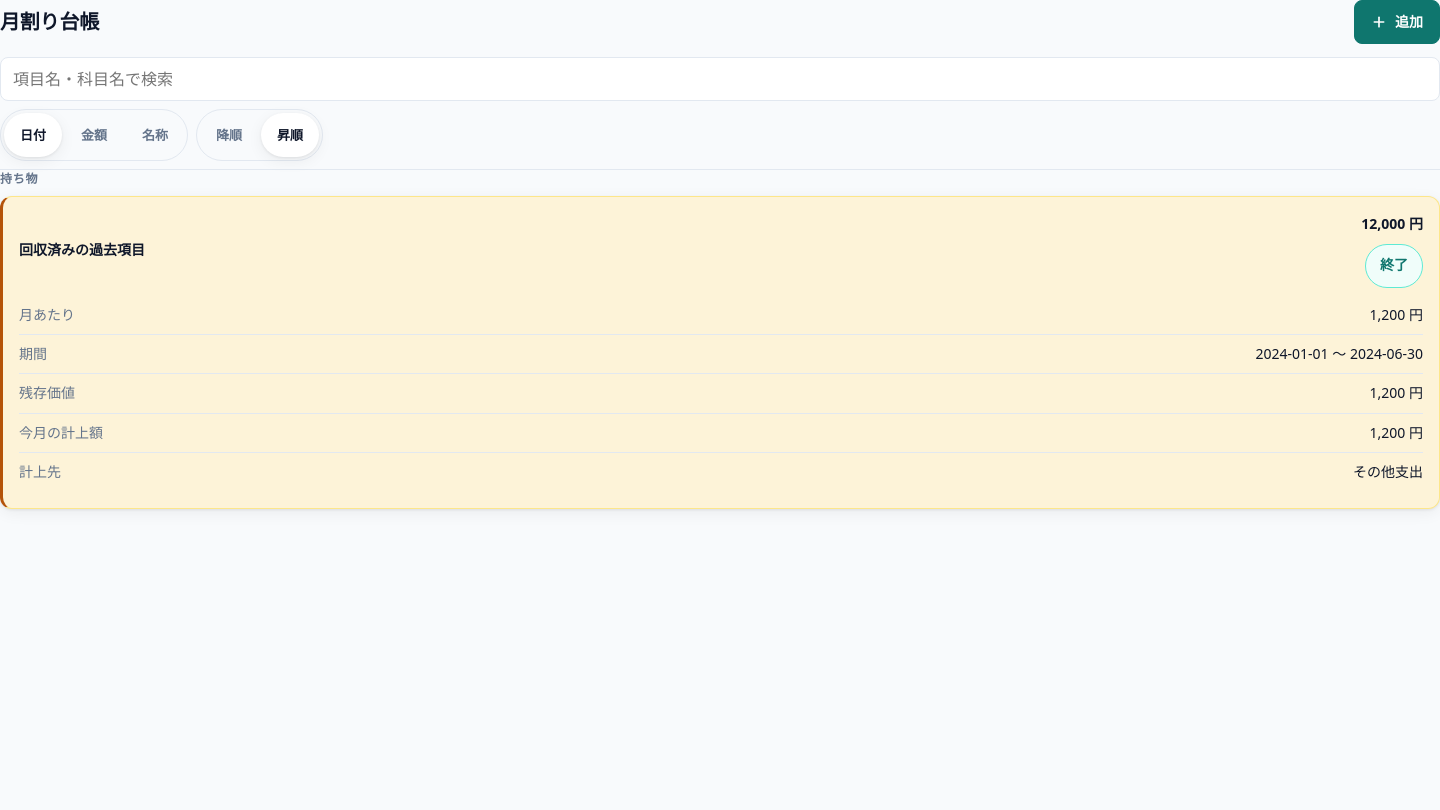
Test case: ヘッダー日付に追従する一覧と金額 › 過去断面のカードとアーカイブ操作が同じ全知識の回収額を使う
Expected: the text "残存価値" shows "1,200", [1370,383,1423,402]
Click the button "終了" at x=1394, y=266, box [1365,244,1423,288]
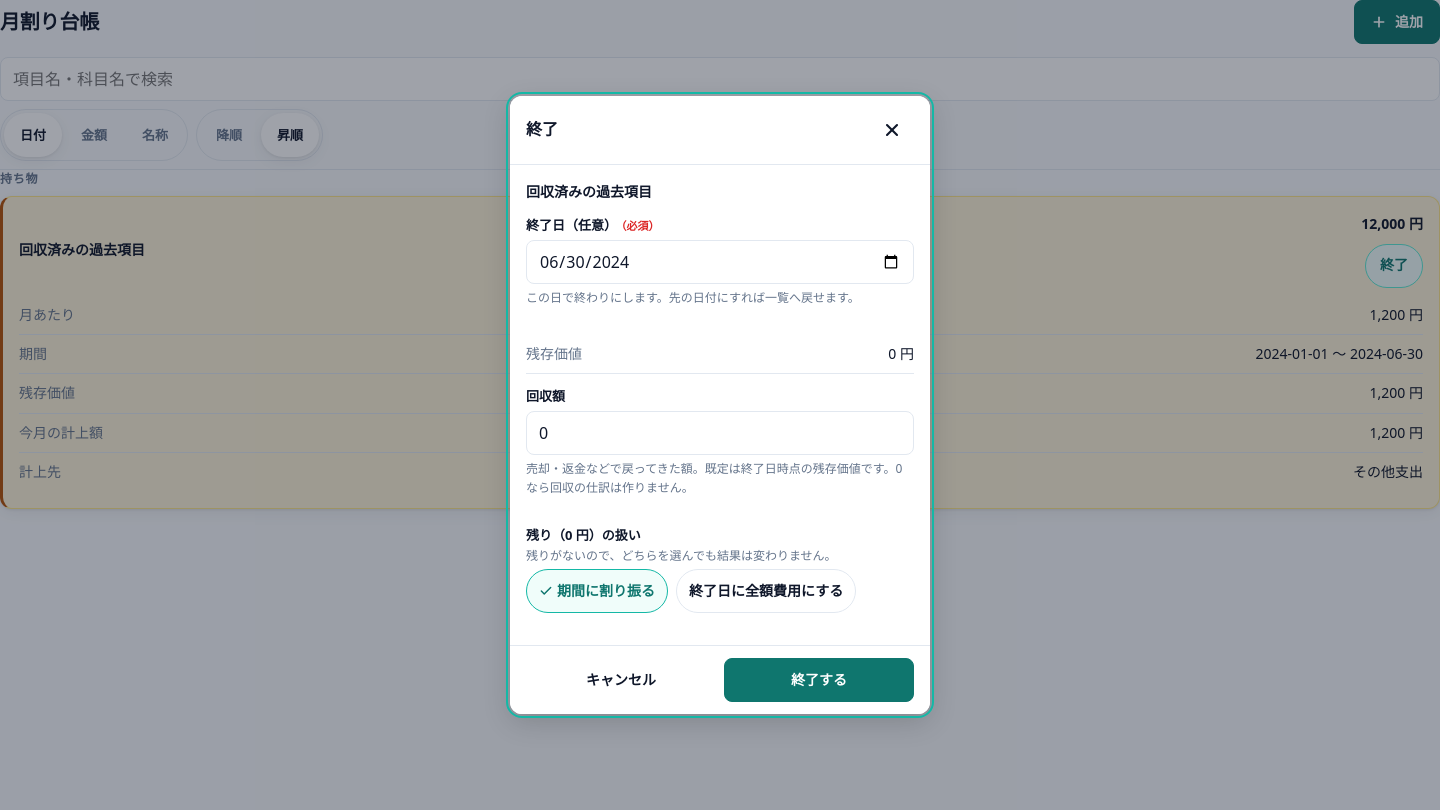
Note: 最終刻み（2024-06-01）以降は回収額にかかわらず残存 0 になるため、途中日へ変えて差を固定する。
Type "2024-05-31" into the date field labelled "終了日（任意）（必須）" at x=720, y=262, box [526,240,914,284]
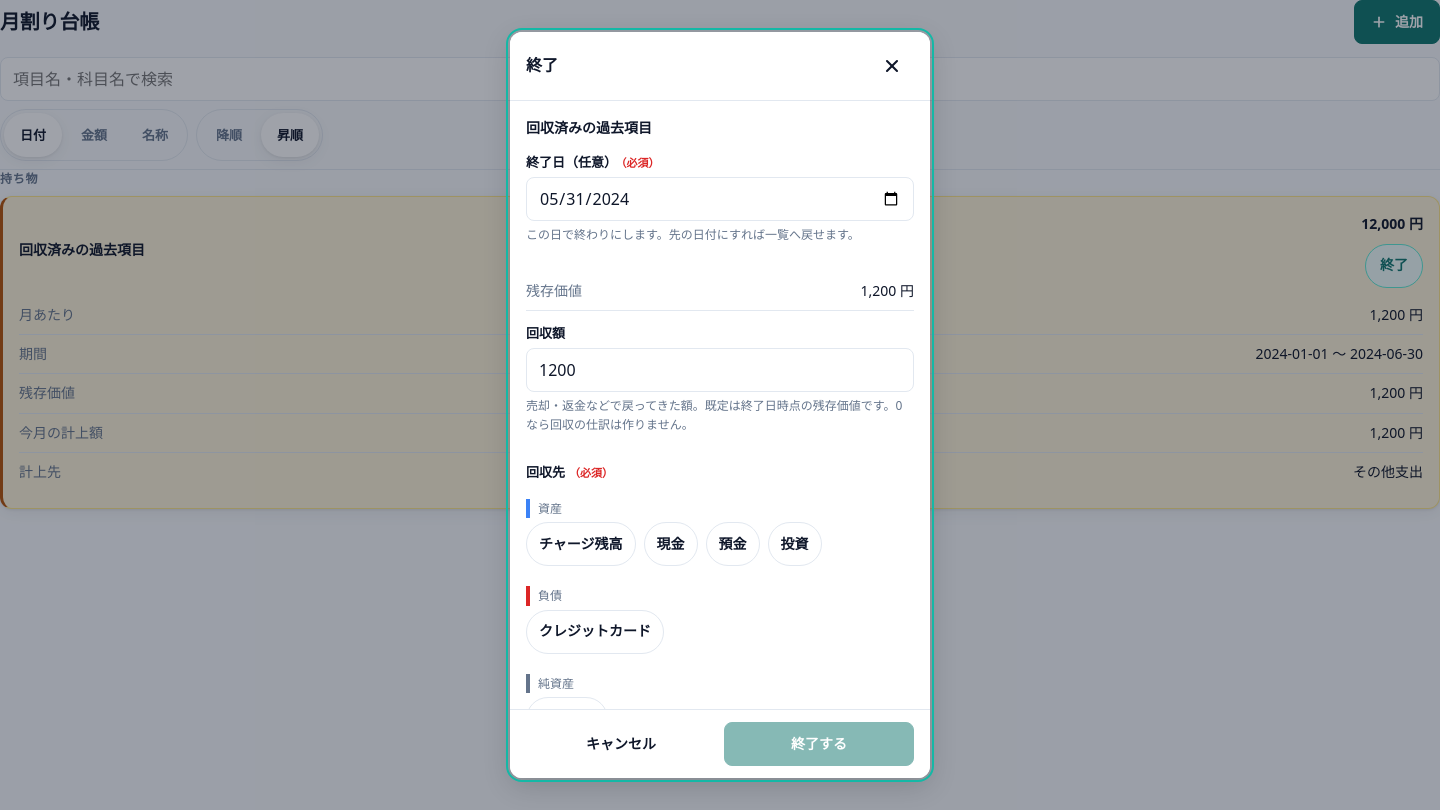
Expected: the text "残存価値" shows "1,200", [861,281,914,300]
